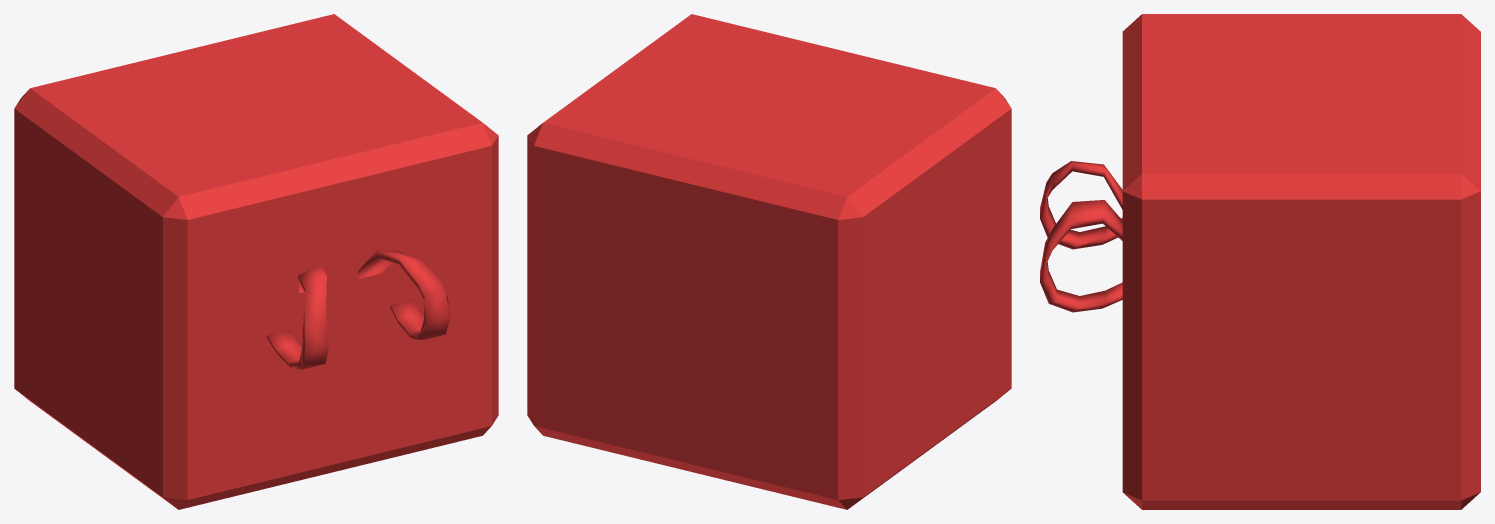
Rendered from CharacterBackpack.fbx.
3 views of the same model, side by side, from view 1: azimuth 30°, elevation 25°; view 2: azimuth 150°, elevation 25°; view 3: azimuth 270°, elevation 25° (orthographic). The views are drawn at different scales.
Visible parts, largest first — view 1: PersonBackpack; view 2: PersonBackpack; view 3: PersonBackpack.
Part boxes in pixels (x1=…): PersonBackpack: x1=14, y1=14, x2=498, y2=509; PersonBackpack: x1=527, y1=14, x2=1011, y2=509; PersonBackpack: x1=1040, y1=14, x2=1480, y2=509.
Size of the model in its own units: 91.98 by 81.96 by 97.29.
